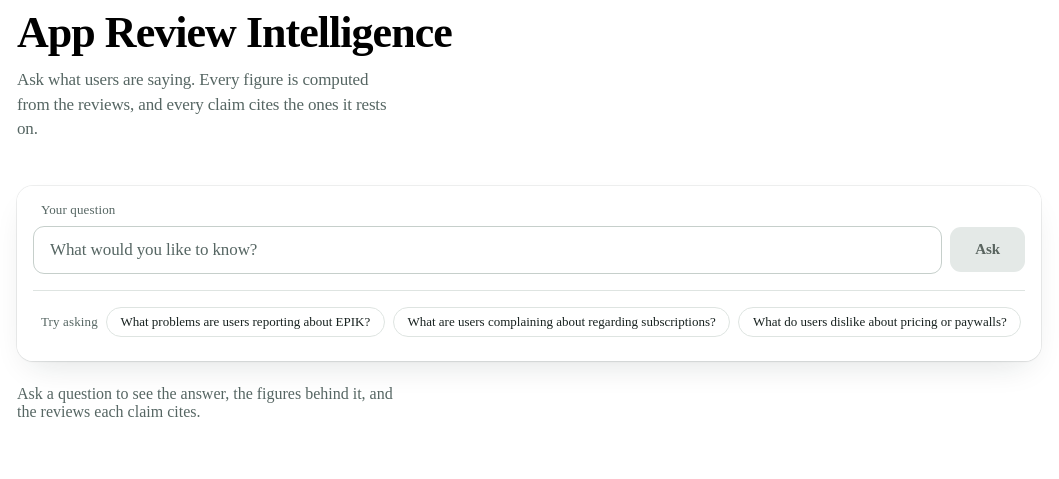
Test: friendly errors and retry › handles a successful HTTP response with invalid JSON
Type "  What needs improvement?  " into the field labelled "Your question" at coordinates (488, 250), box [33,226,942,274]
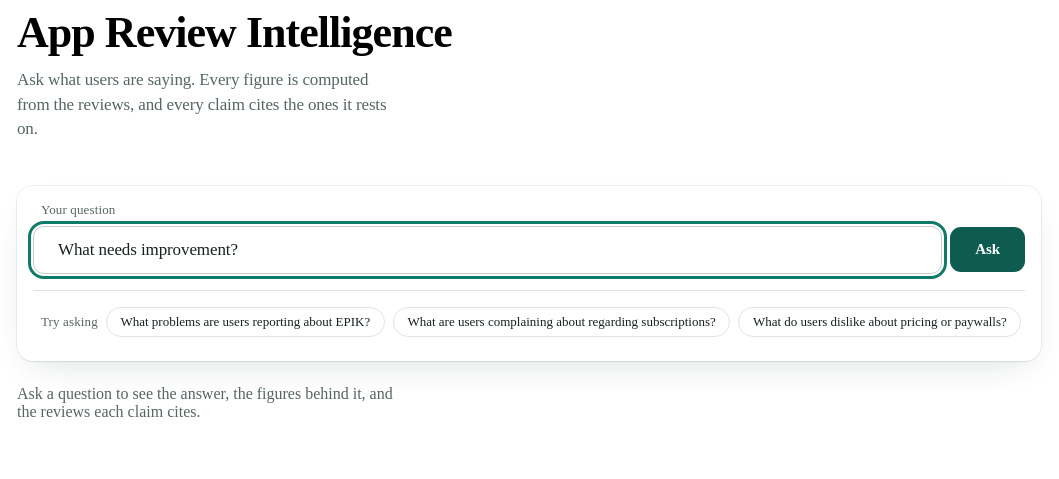
Click the button "Ask" at coordinates (988, 250), box [950,227,1025,272]
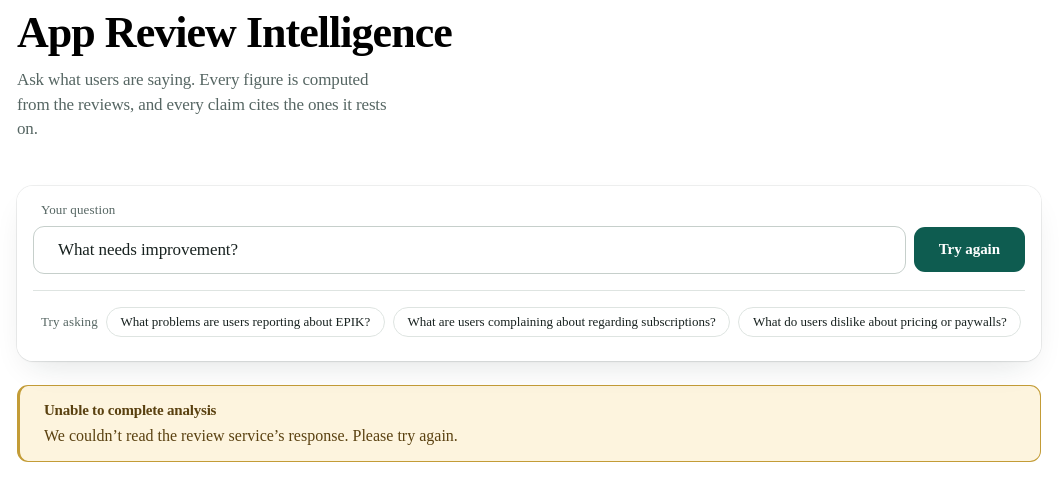
Check: the button "Try again" is enabled, box [914,227,1025,272]
Check: the message shows "We couldn’t read the review service’s response. Please try again.", box [44,427,458,444]
Check: the text "answer" is gone
